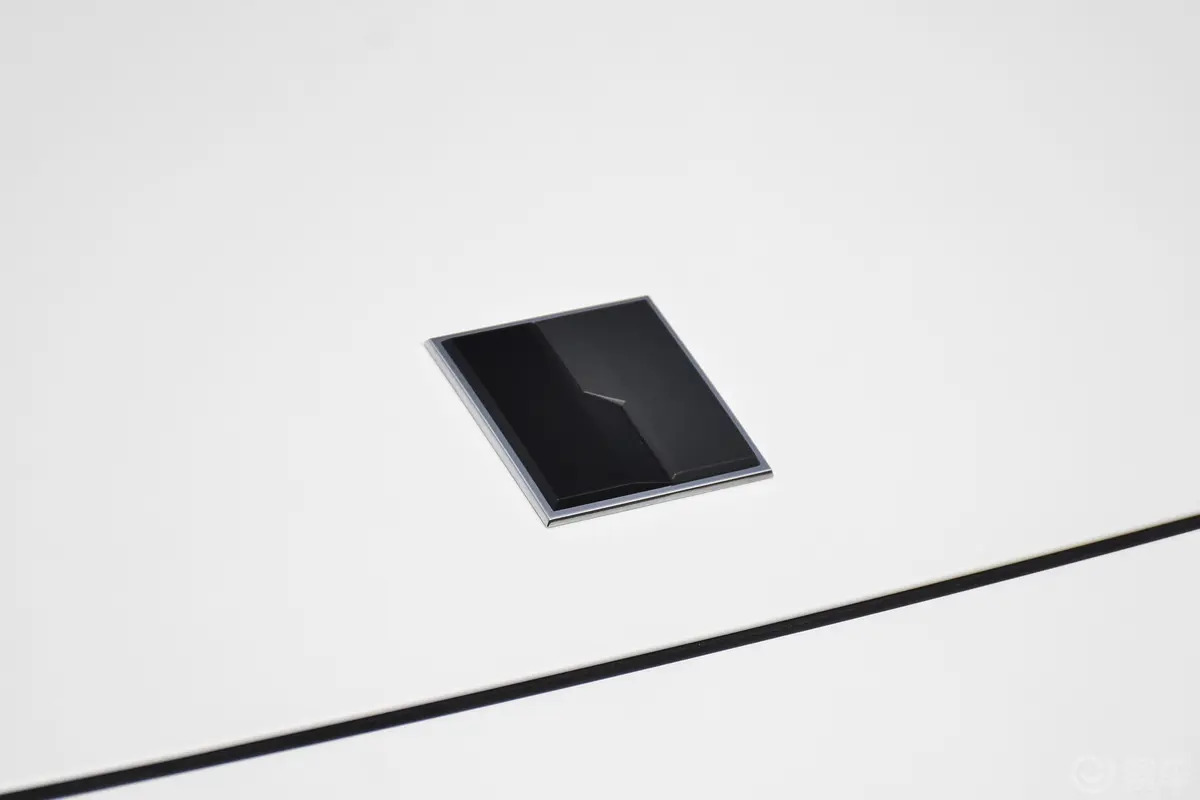LINK&CO: (425, 296, 772, 527)
